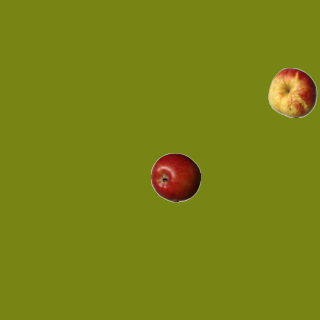Apple Braeburn: (150, 152, 200, 202)
Apple Red Yellow 1: (267, 67, 317, 117)
